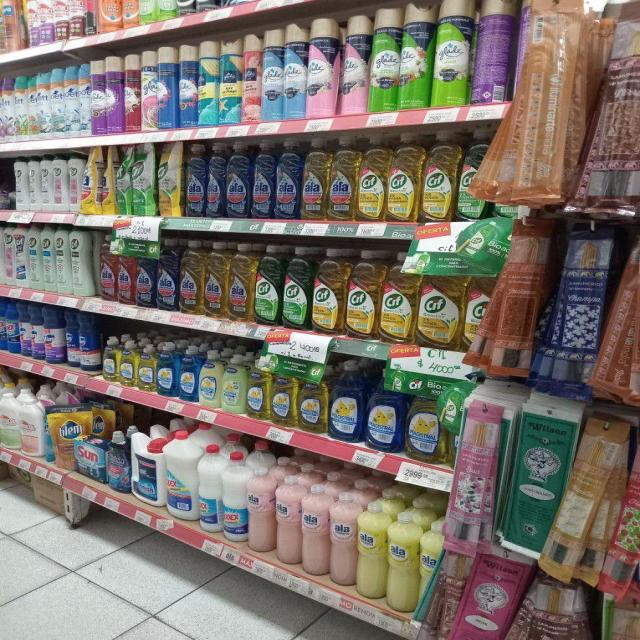ala_conc_amarillo: (329, 135, 356, 220), (302, 137, 328, 220), (228, 242, 254, 322), (204, 240, 228, 318), (179, 238, 203, 314)
ala_conc_azul: (275, 138, 301, 219), (226, 142, 251, 218), (251, 140, 275, 219), (184, 142, 207, 217), (156, 238, 178, 311), (207, 142, 226, 218), (136, 244, 156, 308)
ala_conc_rojo: (99, 236, 117, 302), (118, 247, 135, 305)
ala_crem_amarillo: (387, 510, 419, 614), (358, 501, 387, 601)
ala_crem_rosado: (330, 489, 357, 588), (302, 482, 329, 578), (248, 464, 274, 554), (276, 472, 300, 567)
ala_sachet_amarillo: (158, 141, 182, 217), (97, 146, 112, 214), (82, 146, 96, 214)
cif_conc_bot_amarilla: (417, 248, 462, 349), (380, 250, 416, 344), (422, 130, 456, 222), (346, 249, 378, 339), (387, 133, 419, 222), (312, 248, 345, 334), (357, 134, 387, 221)
cif_conc_botella_verde: (281, 246, 311, 329), (254, 244, 280, 325)
cif_conc_sachet_verde: (132, 141, 158, 216), (115, 146, 134, 213)
magistral_con_amarillo: (406, 393, 446, 463), (298, 372, 328, 433), (246, 359, 270, 420), (271, 374, 297, 427), (137, 343, 155, 391), (119, 340, 136, 388), (102, 336, 118, 383)
magistral_con_azul: (366, 378, 404, 452), (330, 361, 364, 442), (156, 342, 177, 397), (178, 346, 198, 402)
magistral_con_crema: (222, 354, 246, 414), (198, 349, 221, 408)
